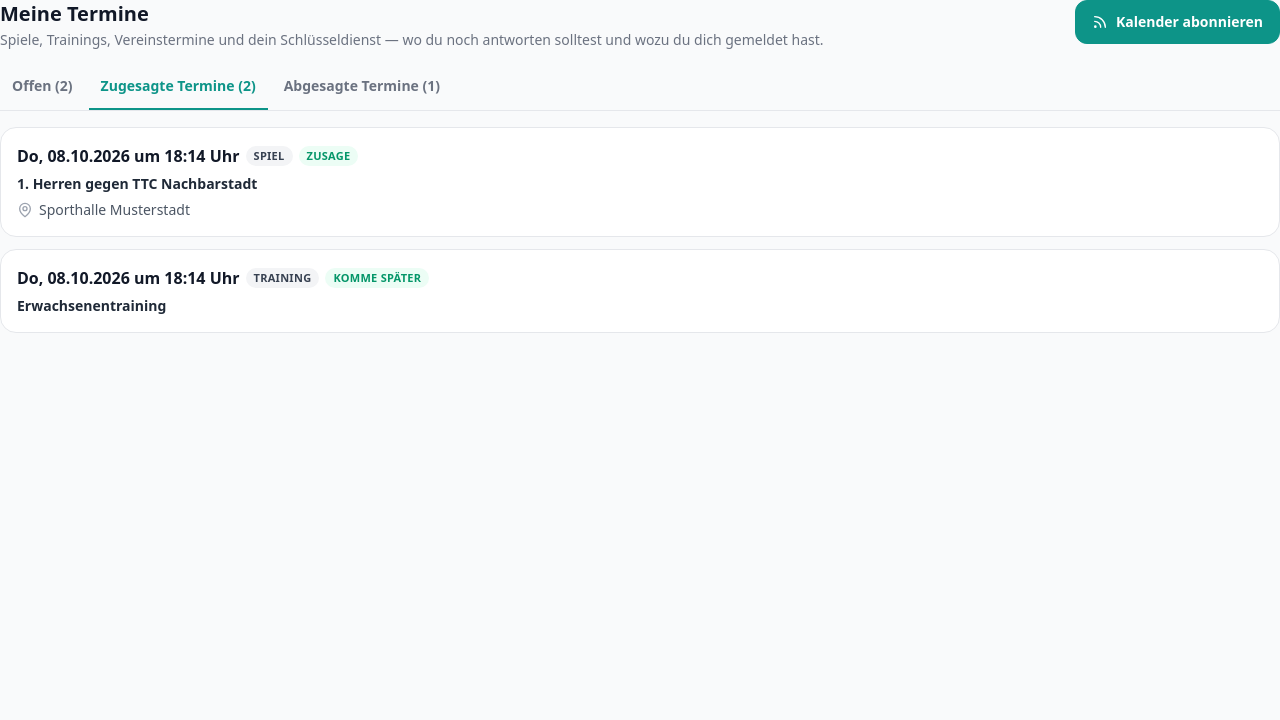
SubscribeDialog › holt den eigenen Kalender-Link
Click the button "Kalender abonnieren" at [1177, 22], box [1075,0,1279,44]
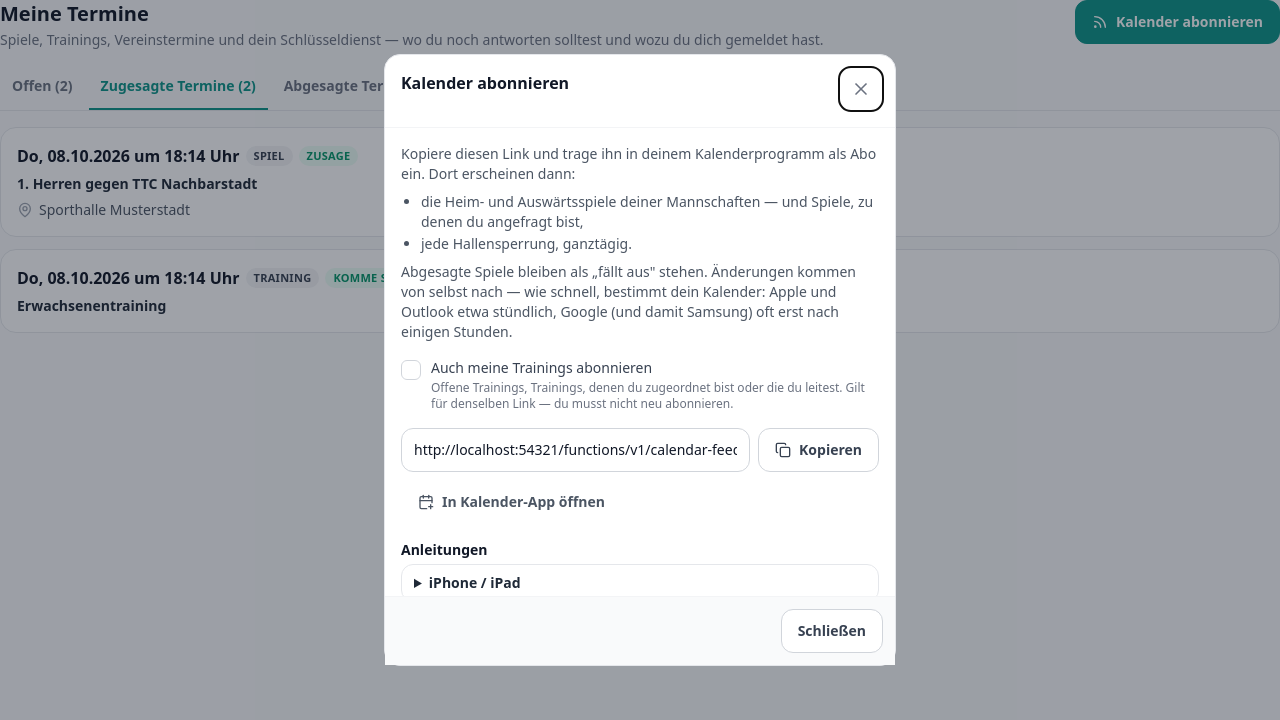
Expected: the field named "Kalender-Link" holds "http://localhost:54321/functions/v1/calendar-feed?token=11111111-2222-3333-4444-555555555555", [401,428,750,472]
